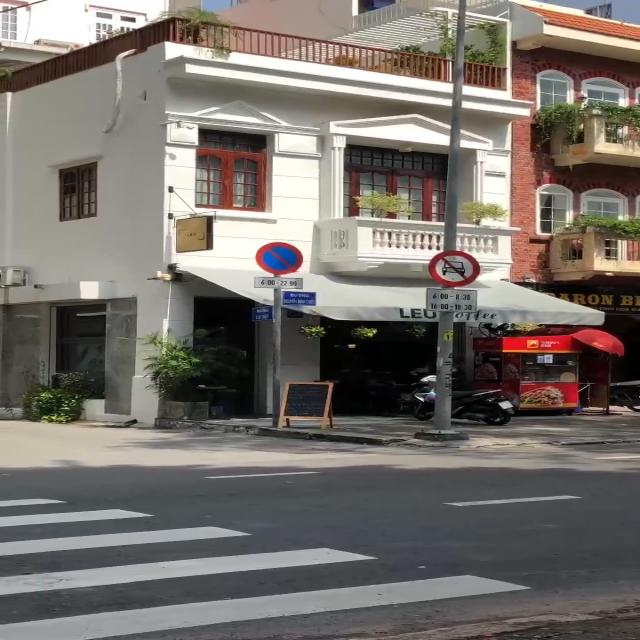Bien bao cam do xe: (253, 239, 304, 276)
Bien bao cam xe oto: (427, 248, 483, 289)
